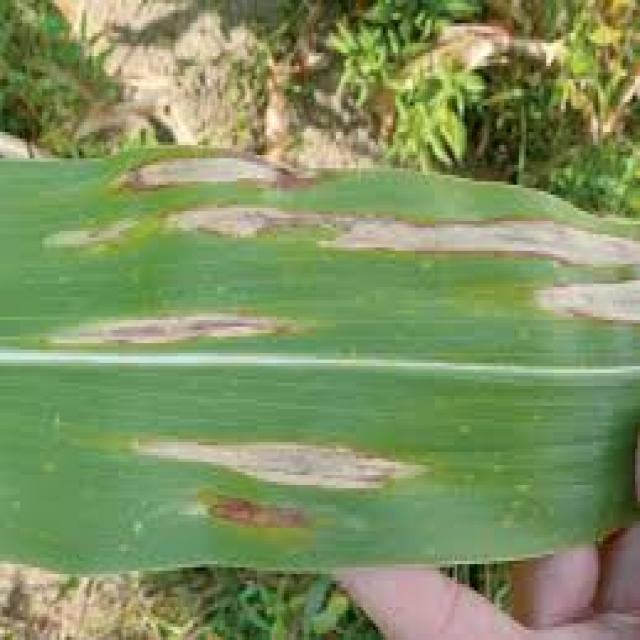Corn_Leaf_Blight: (0, 151, 600, 564)
